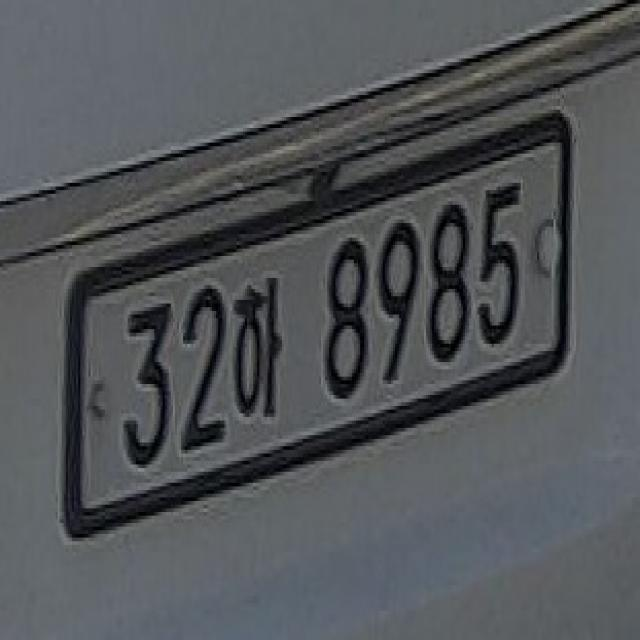2: (175, 282, 228, 454)
3: (115, 296, 177, 468)
5: (477, 180, 523, 348)
8: (321, 227, 373, 406), (426, 194, 469, 366)
9: (372, 215, 418, 388)
ha: (226, 274, 286, 428)
license_plate: (70, 135, 564, 523)
